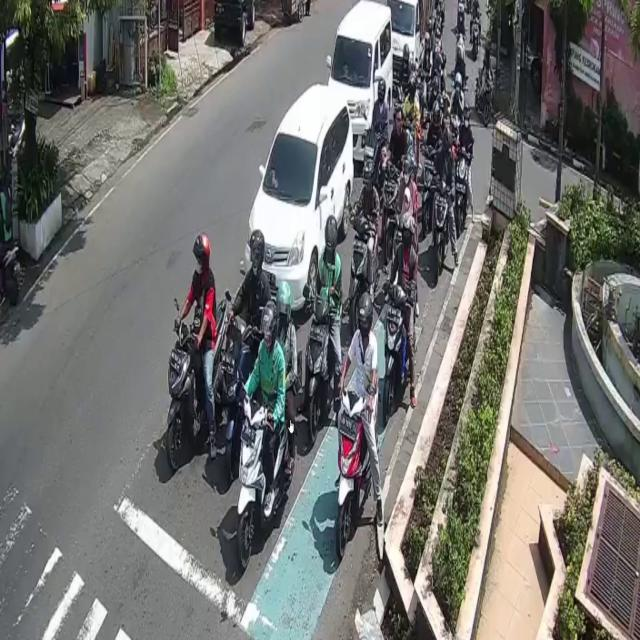bus: (163, 297, 234, 474), (237, 396, 290, 568), (337, 387, 372, 555), (305, 298, 333, 447), (383, 290, 412, 429), (352, 213, 377, 304), (434, 184, 453, 276), (454, 147, 472, 237), (476, 62, 494, 126)
motorcycle: (243, 81, 354, 319), (329, 0, 394, 162), (388, 0, 427, 69)
